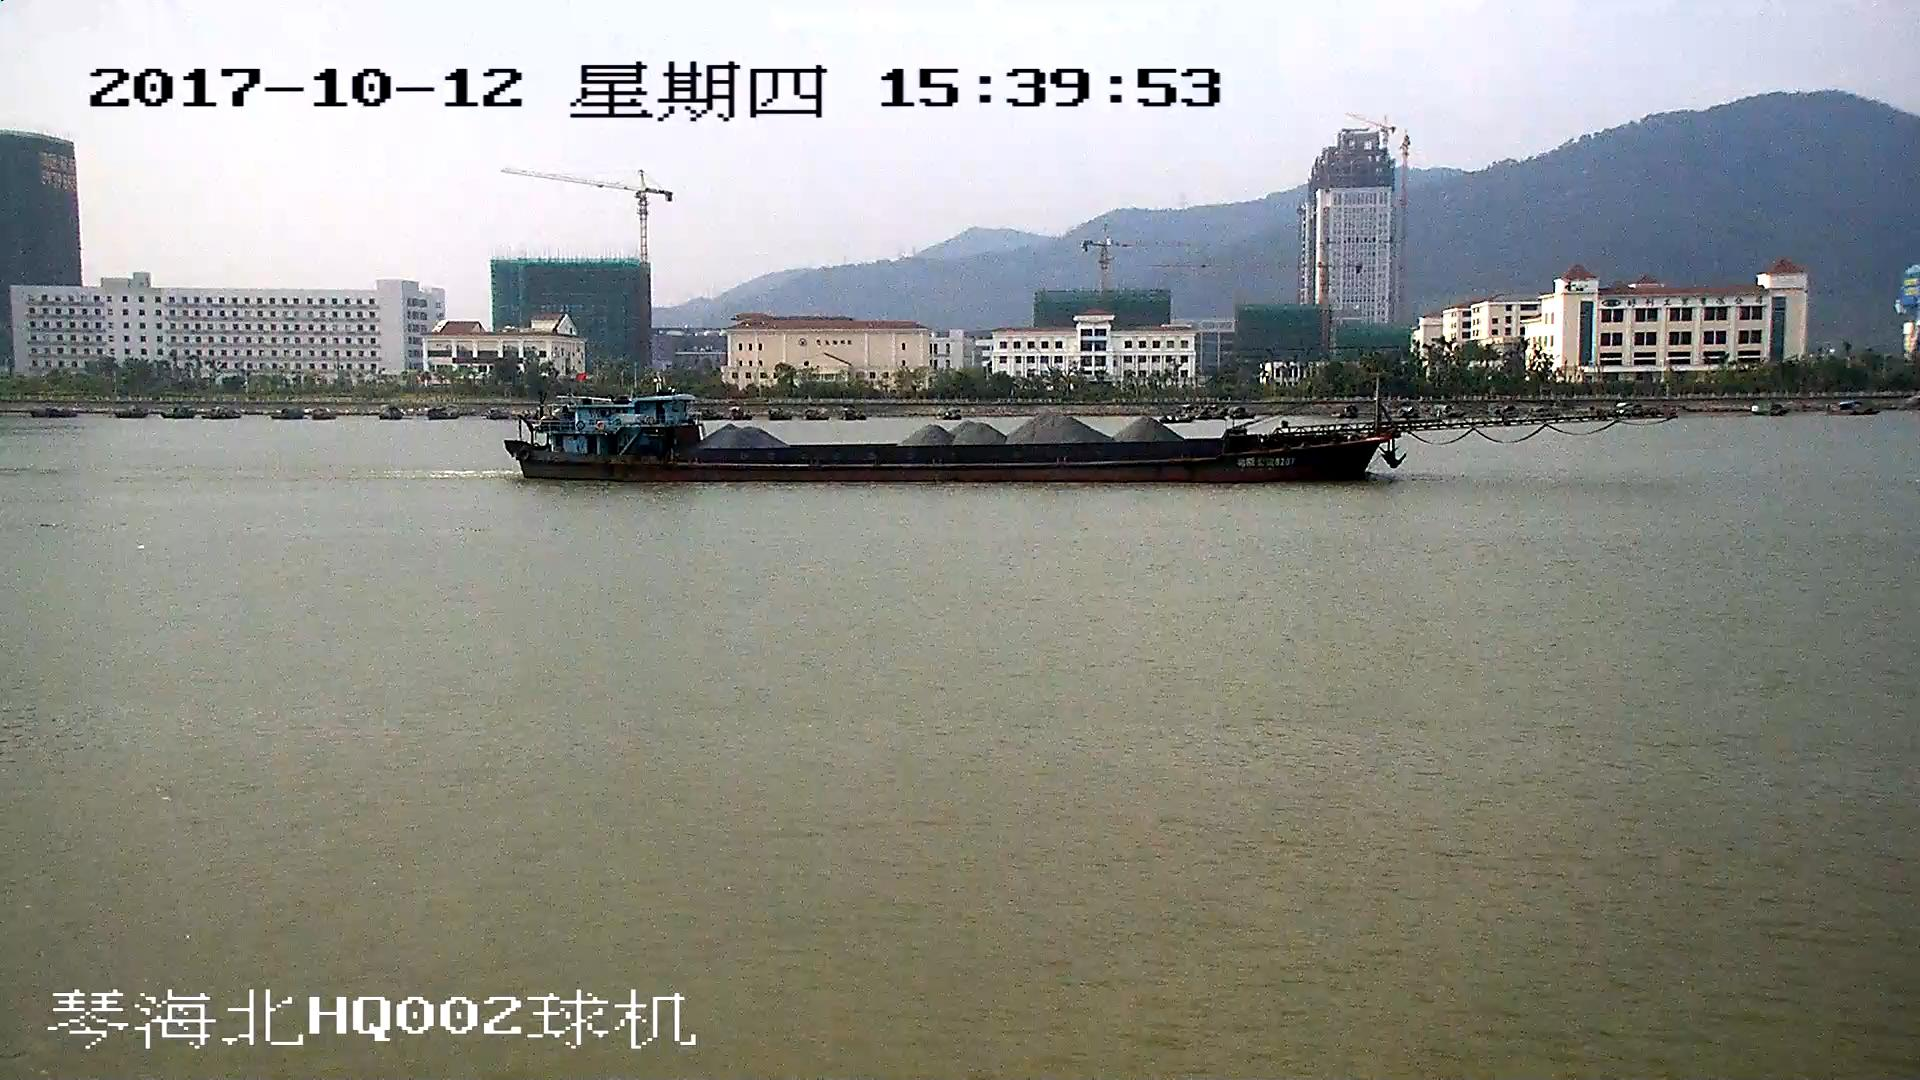ore carrier: (507, 371, 1625, 485)
